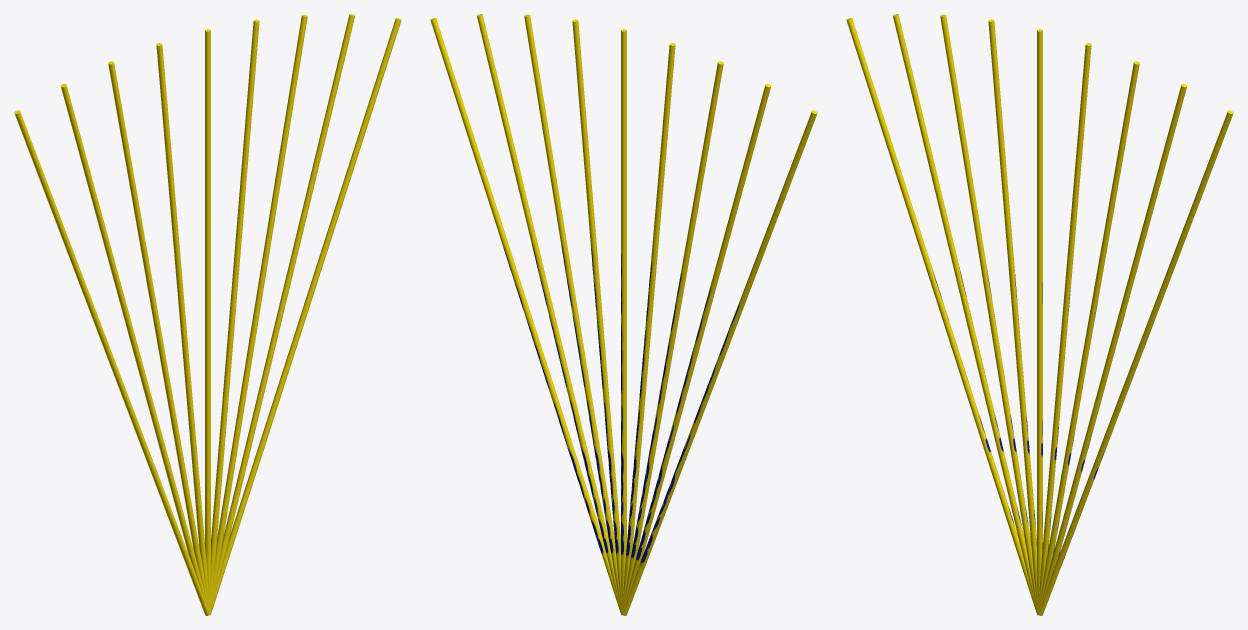
Rendered from Lights.FBX.
3 renders of one model, left to right at view 1: azimuth 30°, elevation 25°; view 2: azimuth 150°, elevation 25°; view 3: azimuth 330°, elevation 25°, orthographic.
Parts seen in each view (by area): view 1: Cylinder001; view 2: Cylinder001; view 3: Cylinder001.
Boxes of the visible parts, left/top/right/bottom form: Cylinder001: left=14, top=14, right=401, bottom=615; Cylinder001: left=430, top=14, right=817, bottom=615; Cylinder001: left=846, top=14, right=1233, bottom=615.
Bounding box in the file's own units: 49.69 × 71.82 × 0.6674.
